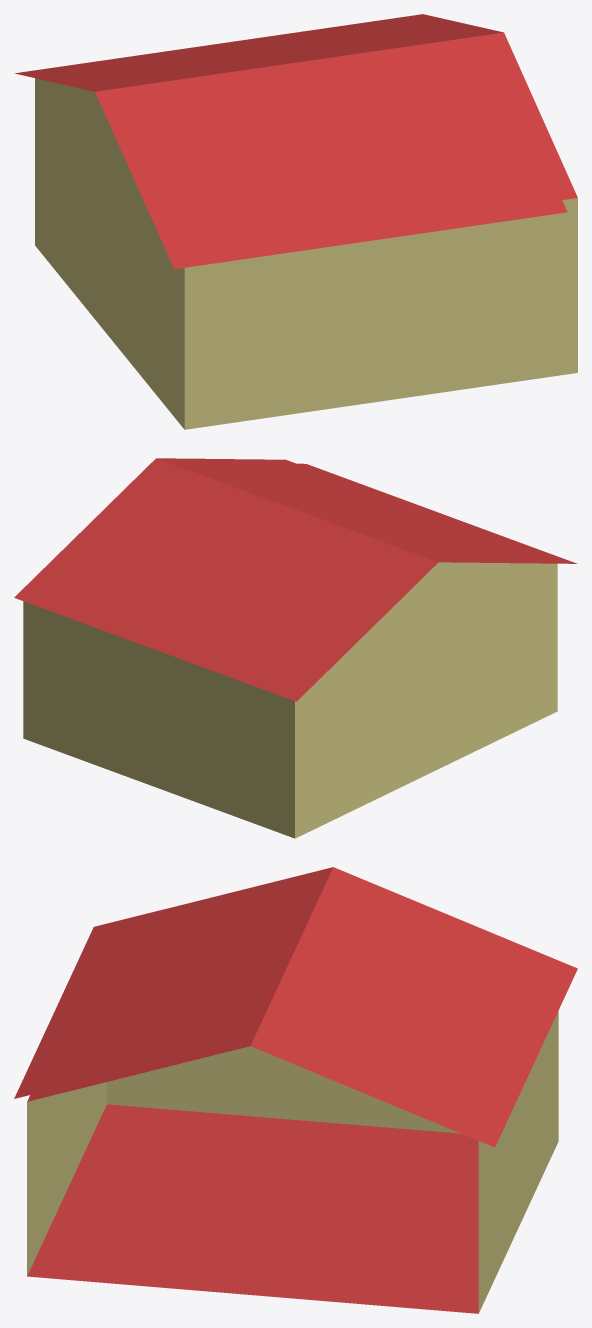
3 views of the same model, one above another, from view 1: azimuth 30°, elevation 25°; view 2: azimuth 150°, elevation 25°; view 3: azimuth 270°, elevation 25° (orthographic). The views are drawn at different scales.
Bounding box in the file's own units: 15.61 × 16.98 × 8.27.
